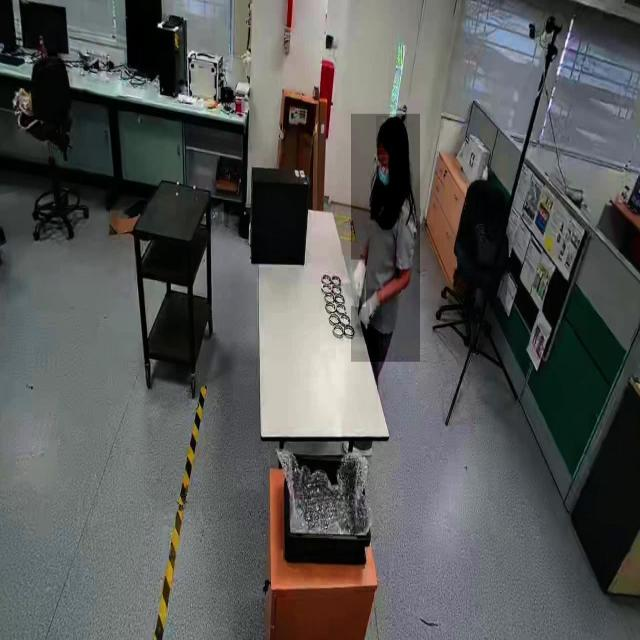face_mask: (375, 155, 393, 191)
hand_glove: (354, 289, 382, 338), (351, 260, 366, 306)
head_nohelmet: (376, 115, 408, 148)
person: (351, 114, 421, 362)
